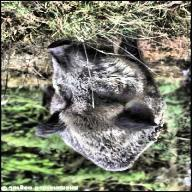boar: (32, 13, 165, 169)
